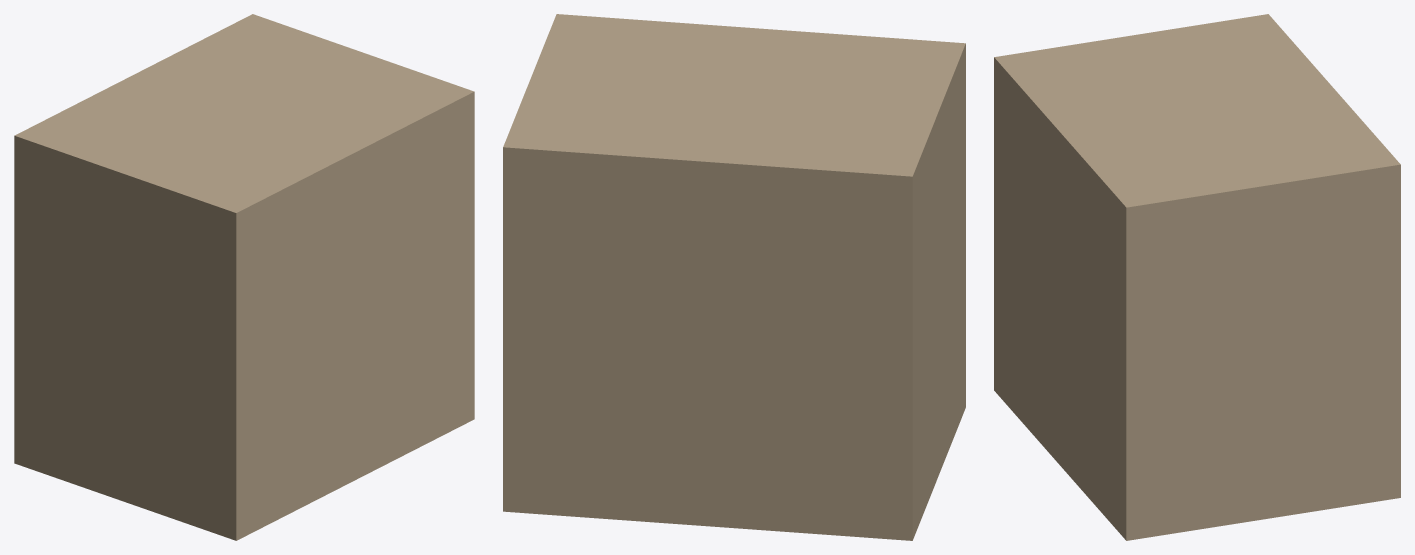
The model's file is bld_108161962.dae.
3 renders of one model, left to right at view 1: azimuth 30°, elevation 25°; view 2: azimuth 150°, elevation 25°; view 3: azimuth 270°, elevation 25°, orthographic. The views are drawn at different scales.
Visible parts, largest first — view 1: bld_108161962; view 2: bld_108161962; view 3: bld_108161962.
Part boxes in pixels (bbox=[...]): bld_108161962: bbox=[14, 14, 474, 540]; bld_108161962: bbox=[503, 14, 965, 540]; bld_108161962: bbox=[994, 14, 1400, 540].
Bounding box in the file's own units: 9.97 × 8.85 × 8.
